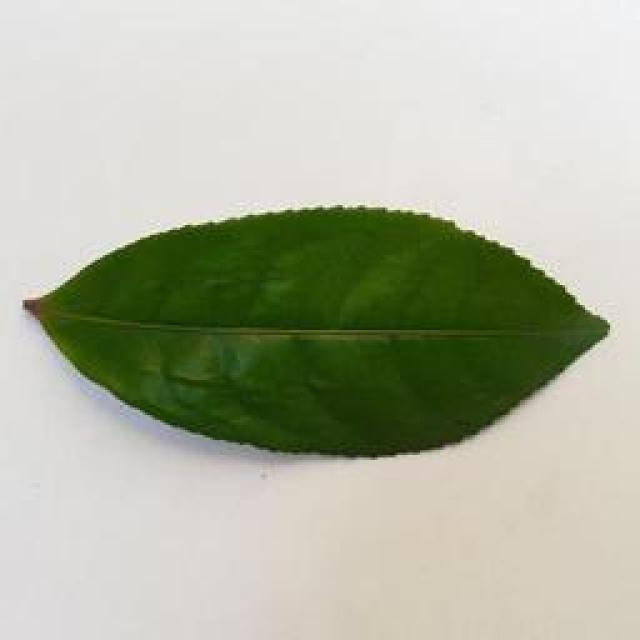Healthy: (10, 195, 640, 480)
